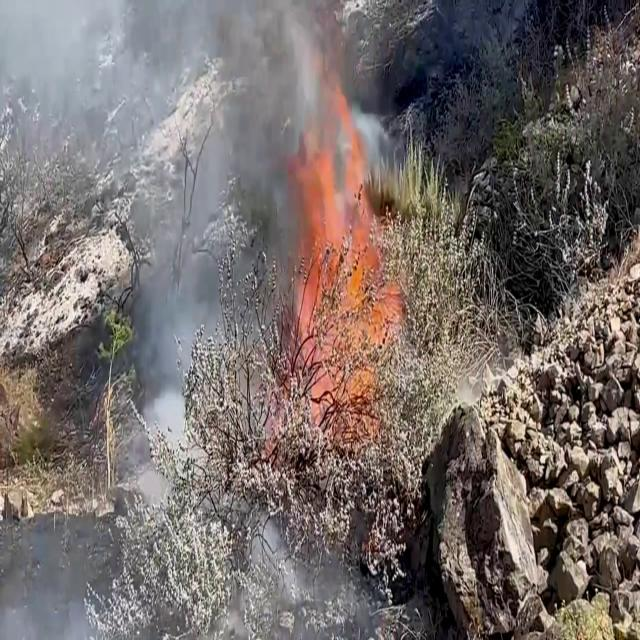Fire: (282, 84, 404, 444)
Smoke: (120, 1, 322, 426)
